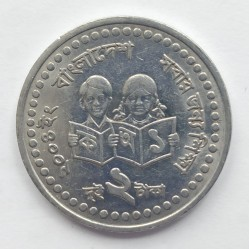5 taka coin: (15, 16, 233, 234)
